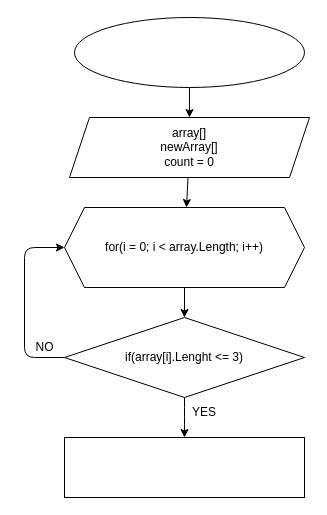
Image size: 327x515. Some labels were removed from this diagram. Each missing label, with the centre of its shape:
"newArray[count] = array[i] count++" goes at (184,467).
"Start" goes at (189,52).
